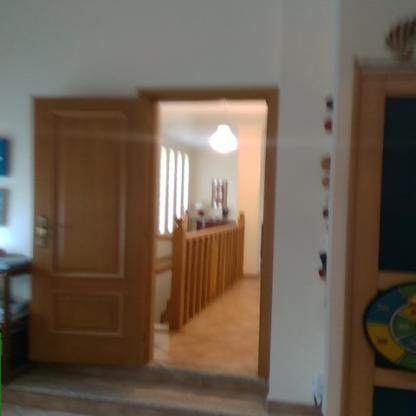open: (31, 68, 288, 403)
